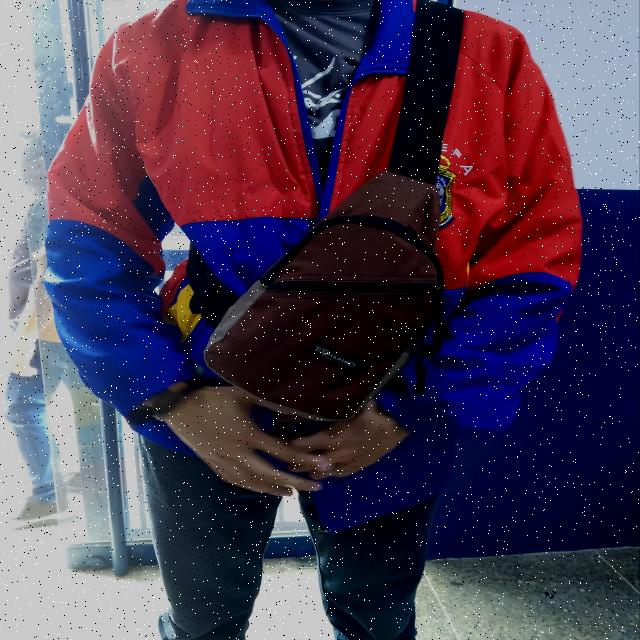chaqueta_unefa: (44, 0, 584, 535)
pantalon_oscuro: (136, 430, 437, 640)
